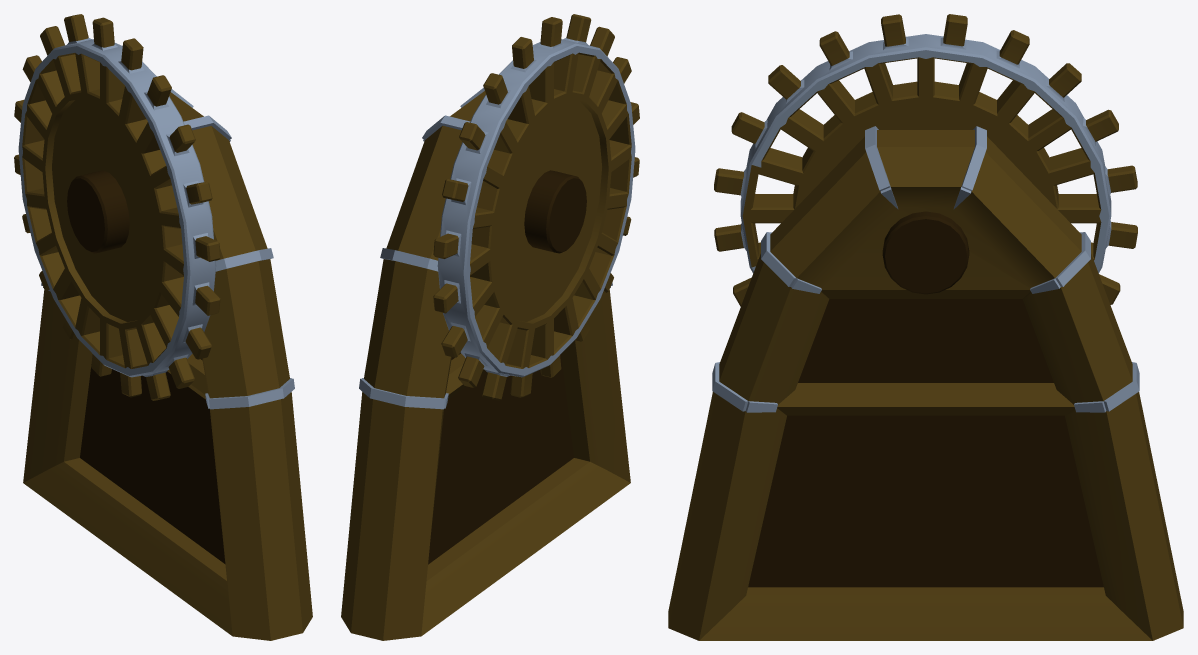
File: Bucket Mechanism.fbx
The picture shows the model from 3 angles, left to right: view 1: azimuth 30°, elevation 25°; view 2: azimuth 150°, elevation 25°; view 3: azimuth 270°, elevation 25°; orthographic projection. The views are drawn at different scales.
Parts seen in each view (by area): view 1: polySurface1, polySurface2; view 2: polySurface1, polySurface2; view 3: polySurface1, polySurface2.
Boxes of the visible parts, <box> form: polySurface1: <box>23,89,312,640</box>; polySurface2: <box>14,14,220,400</box>; polySurface1: <box>341,87,630,640</box>; polySurface2: <box>433,14,639,400</box>; polySurface1: <box>668,126,1183,640</box>; polySurface2: <box>714,14,1137,306</box>.
Size of the model in its own units: 60.94 by 249 by 202.
